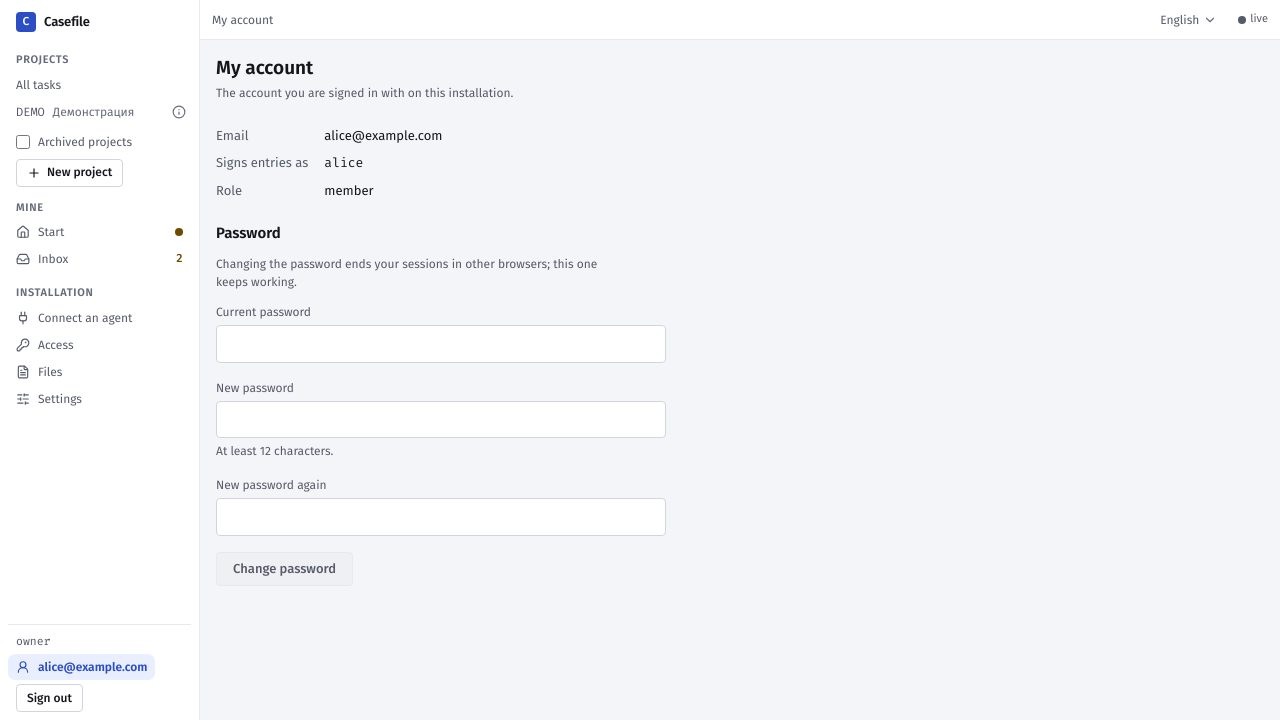
Test: экран «Моя учётная запись» › несовпавший повтор ловится до отправки
In the password field labelled "Current password": (441, 344) 216,325 -> 666,362, type "old password 12"
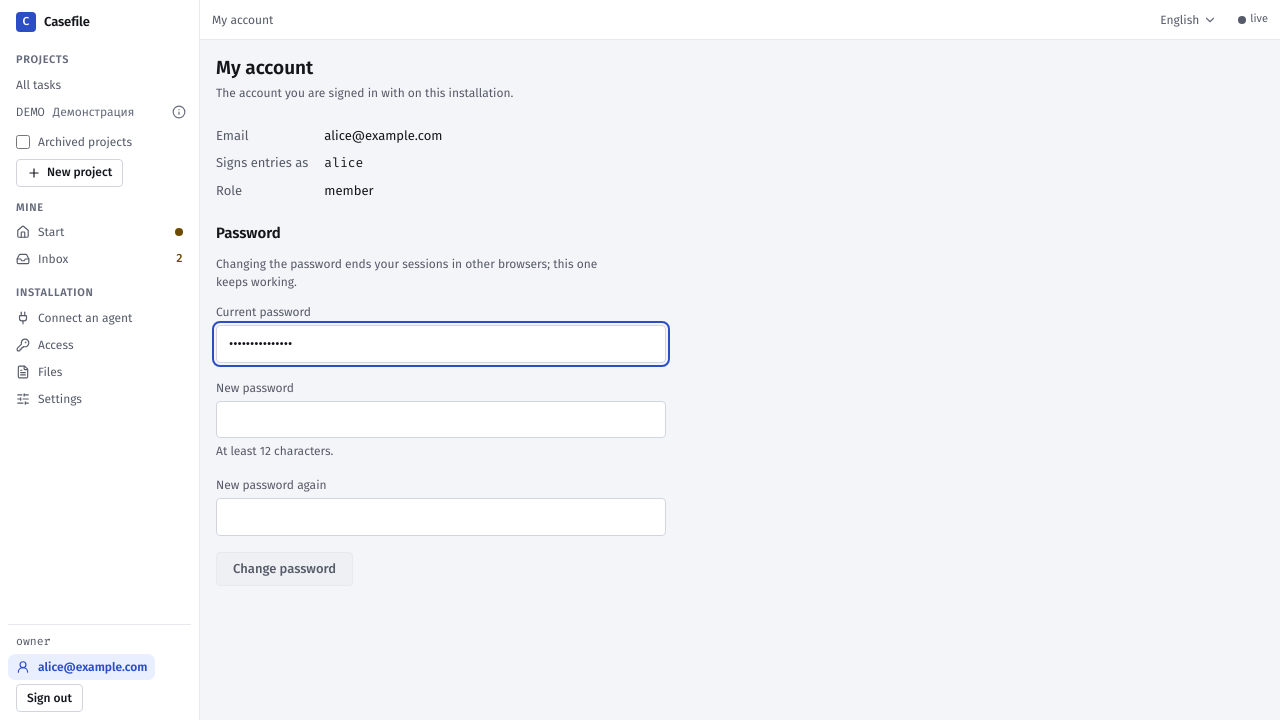
In the password field labelled "New password": (441, 419) 216,400 -> 666,438, type "new password 1234"
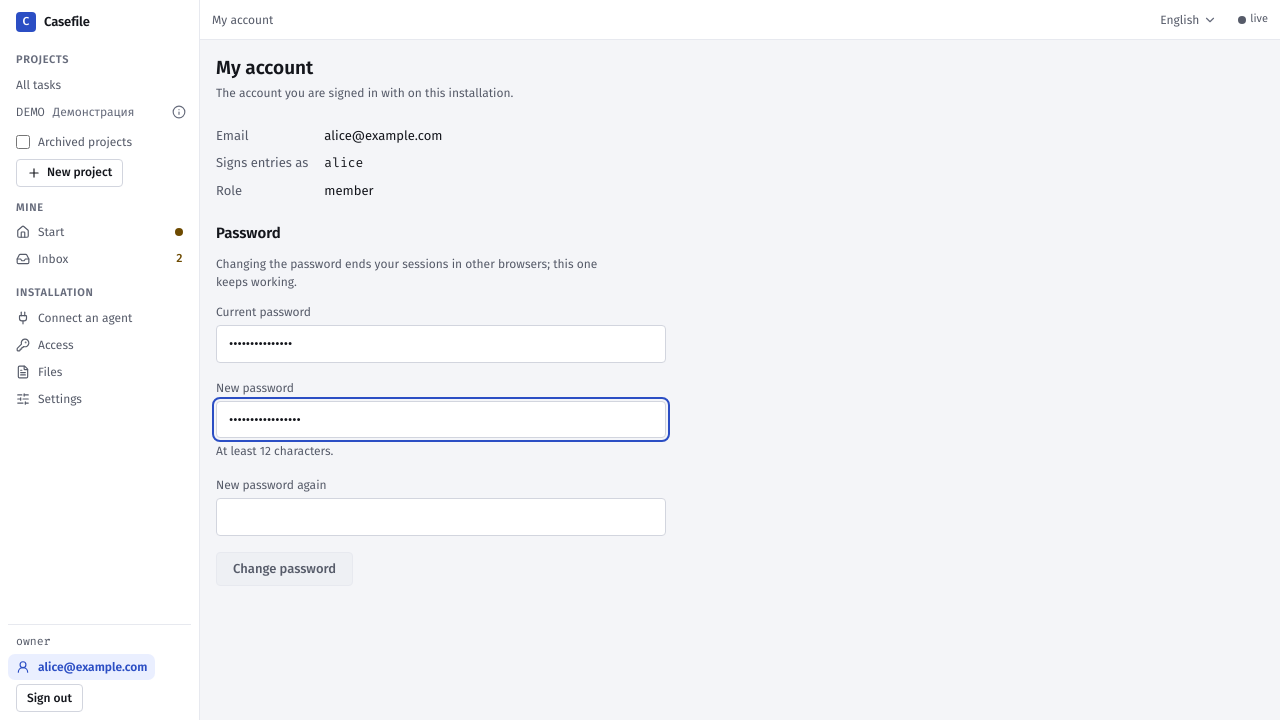
In the password field labelled "New password again": (441, 517) 216,498 -> 666,536, type "new password 12345"
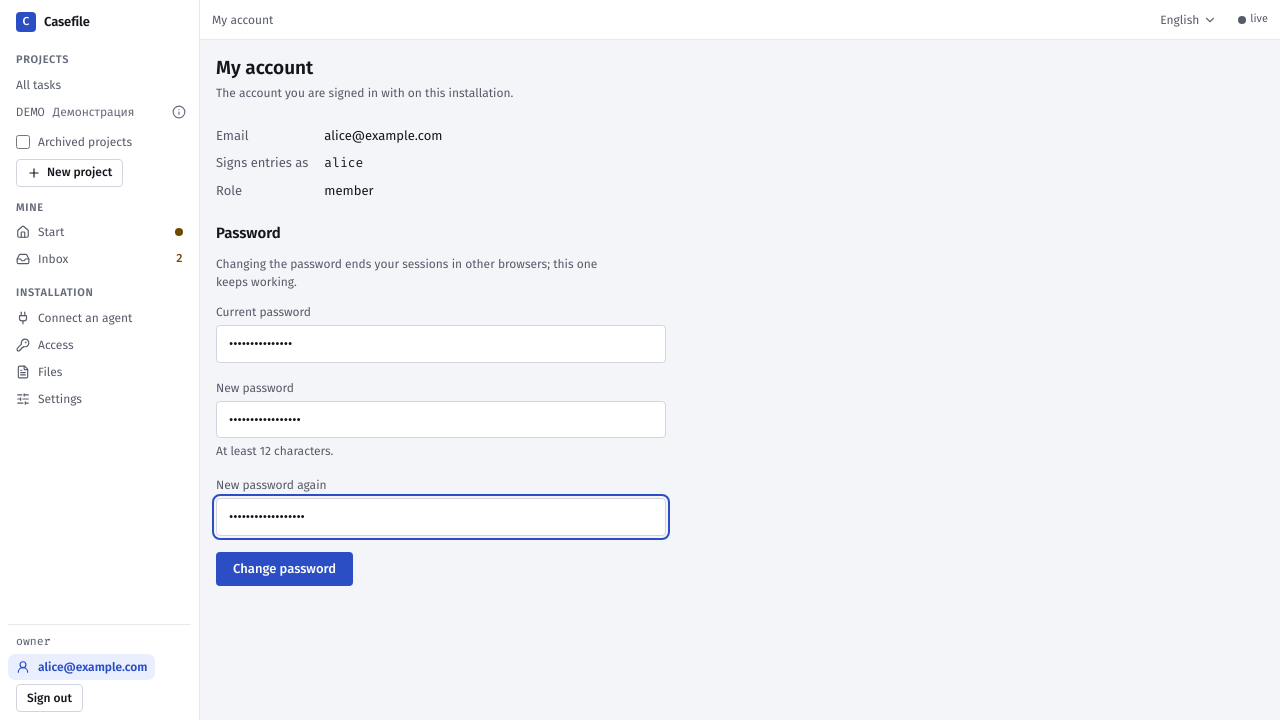
Click the button "Change password": (284, 568) 216,552 -> 353,586
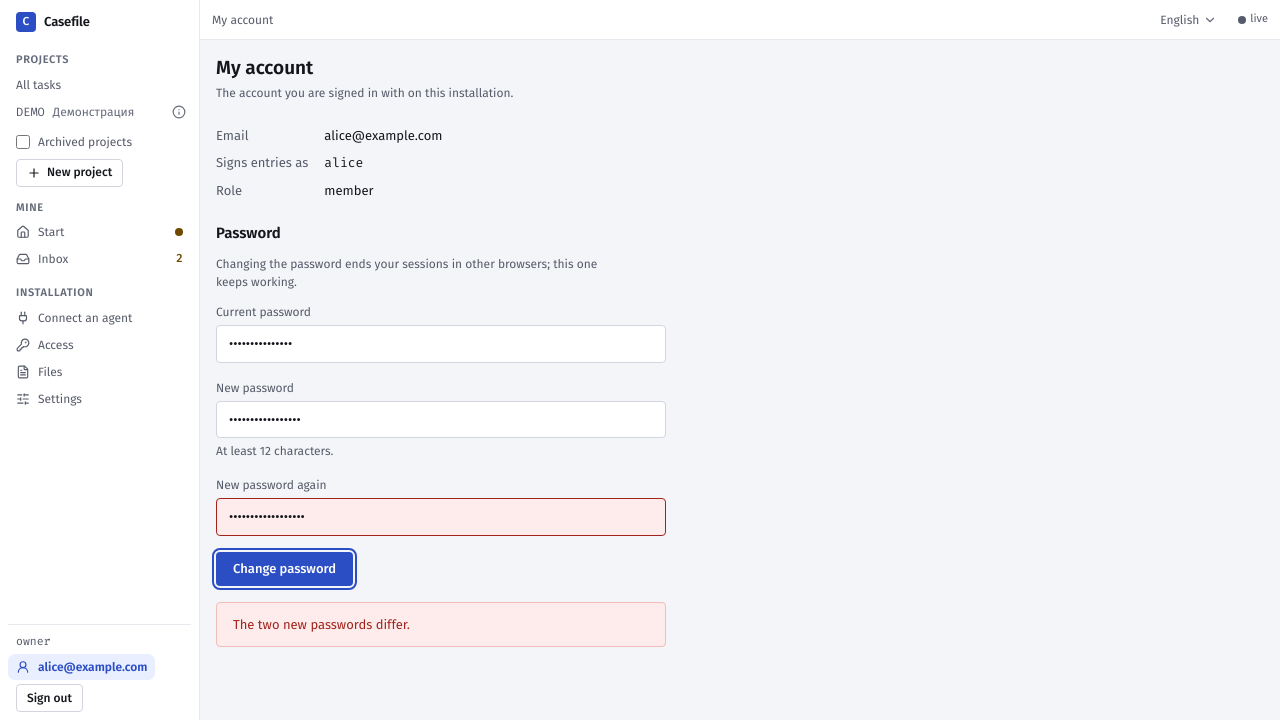
Now the message "The two new passwords differ." is shown, box 216,602 -> 666,647
